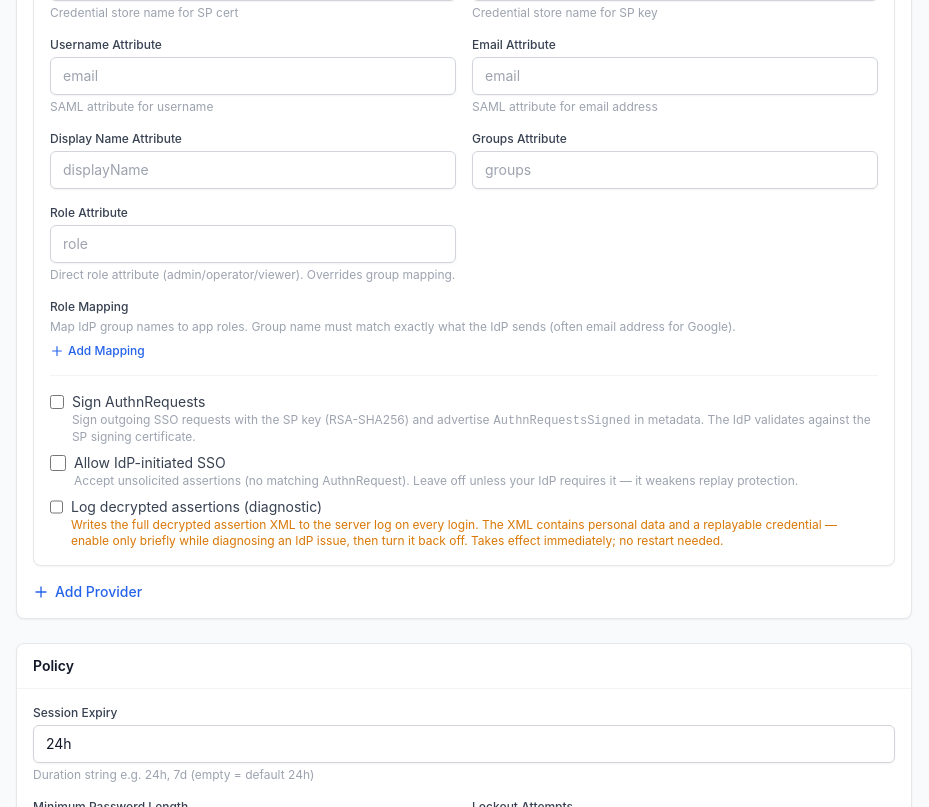
Test: AdminAuthPage › shows a restart banner after saving only when the backend reports restart_required
(page scrolled)
What coordinates should you click on to do the following:
click the checkbox labelled "Sign AuthnRequests"
I would click on:
 (57, 402)
Its box is [50,394,64,410].
(page scrolled)
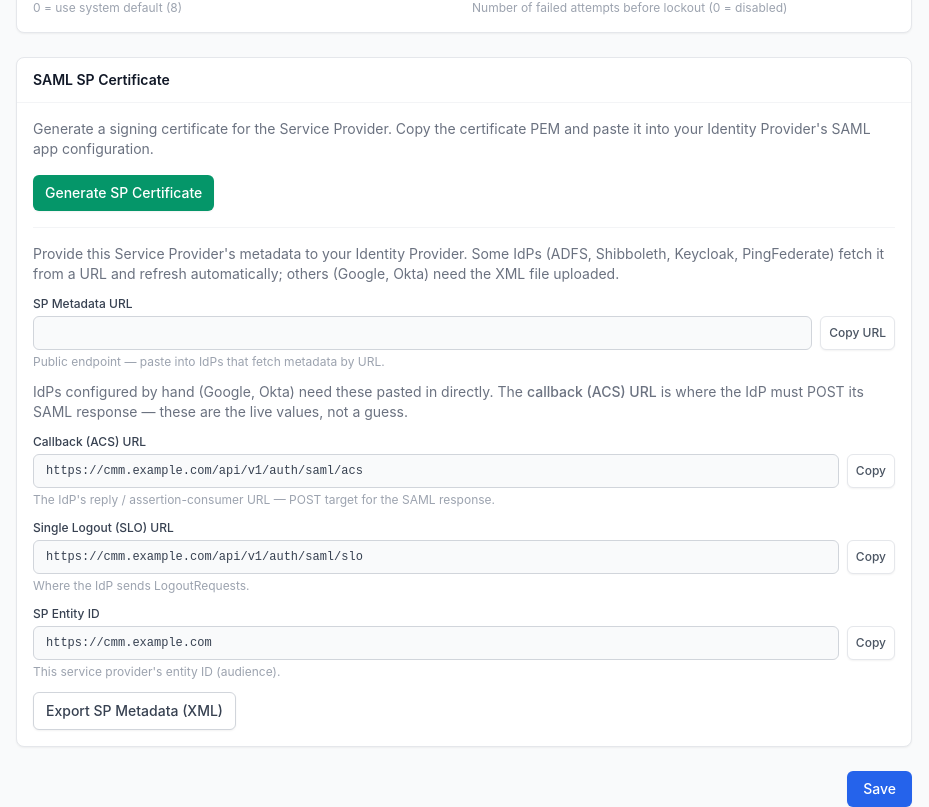
What coordinates should you click on to do the following:
click the button "Save"
I would click on:
 (880, 789)
Its box is [847,771,912,806].
(page scrolled)
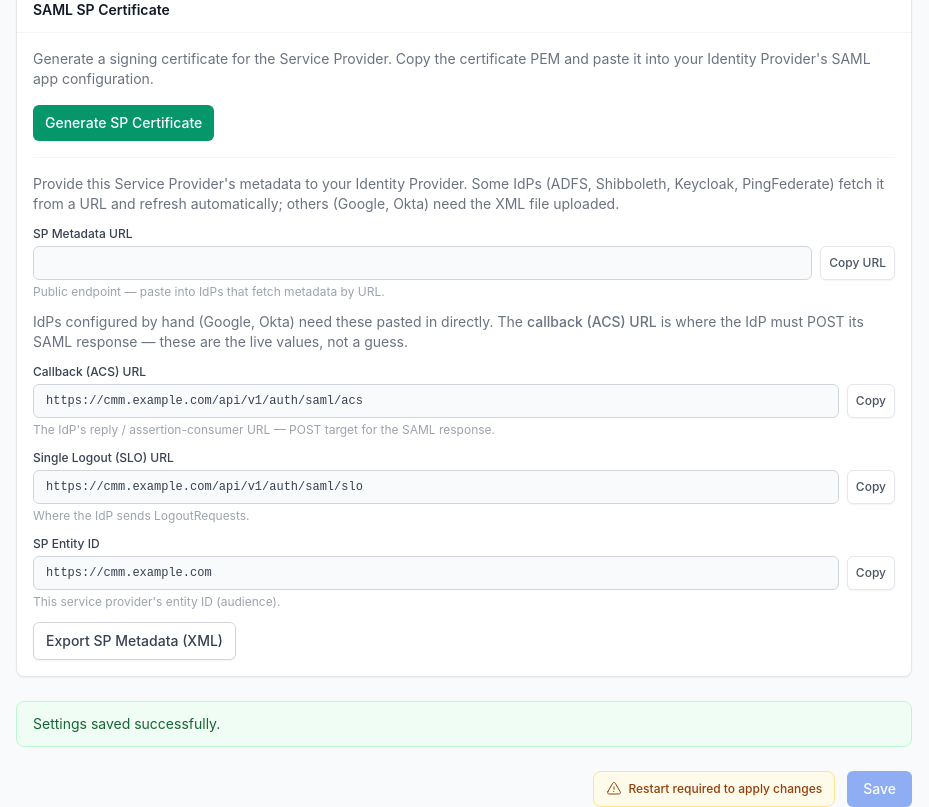
Expected: the text "Restart required to apply changes" is shown, [593,771,835,806]
